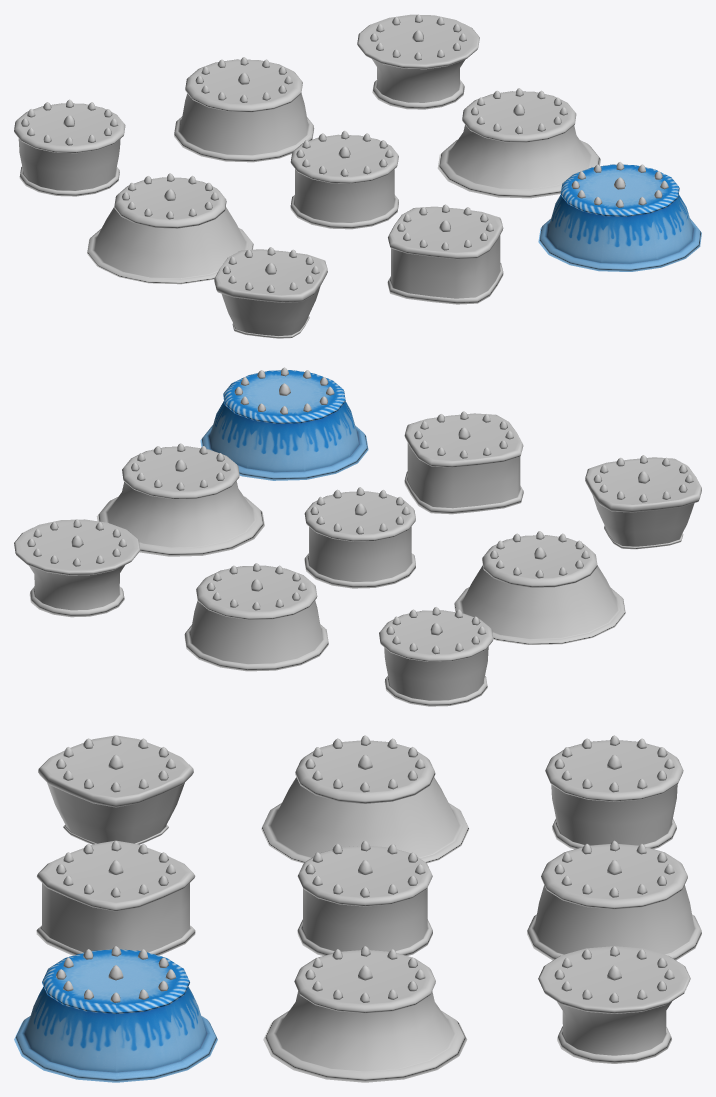
File: CakeCollection_Intial_11-23.fbx
3 renders of one model, top to bottom at view 1: azimuth 30°, elevation 25°; view 2: azimuth 150°, elevation 25°; view 3: azimuth 270°, elevation 25°, orthographic. The views are drawn at different scales.
Parts seen in each view (by area): view 1: group31_pSphere14, group26_pSphere14, pCylinder17, group28_pSphere14, group32_pSphere7, pCylinder18, group27_pSphere2, group29_pSphere4, group33; view 2: group31_pSphere14, group26_pSphere14, pCylinder17, group28_pSphere14, group32_pSphere7, pCylinder18, group29_pSphere4, group27_pSphere2, group33; view 3: group31_pSphere14, pCylinder17, group26_pSphere14, group28_pSphere14, group32_pSphere7, group29_pSphere4, pCylinder18, group27_pSphere2, group33.
Boxes of the visible parts, bbox=[...] form: group31_pSphere14: bbox=[538, 162, 701, 271]; group26_pSphere14: bbox=[87, 173, 253, 284]; pCylinder17: bbox=[437, 88, 600, 198]; group28_pSphere14: bbox=[174, 57, 314, 162]; group32_pSphere7: bbox=[387, 204, 503, 304]; pCylinder18: bbox=[290, 130, 398, 229]; group27_pSphere2: bbox=[14, 99, 125, 196]; group29_pSphere4: bbox=[357, 14, 479, 109]; group33: bbox=[214, 247, 327, 338]; group31_pSphere14: bbox=[200, 367, 368, 480]; group26_pSphere14: bbox=[454, 531, 625, 644]; pCylinder17: bbox=[96, 443, 264, 556]; group28_pSphere14: bbox=[184, 563, 328, 671]; group32_pSphere7: bbox=[404, 411, 523, 514]; pCylinder18: bbox=[304, 487, 415, 588]; group29_pSphere4: bbox=[14, 519, 140, 617]; group27_pSphere2: bbox=[379, 607, 493, 706]; group33: bbox=[585, 455, 701, 549]; group31_pSphere14: bbox=[14, 946, 217, 1082]; pCylinder17: bbox=[263, 946, 467, 1082]; group26_pSphere14: bbox=[261, 735, 468, 863]; group28_pSphere14: bbox=[527, 840, 701, 960]; group32_pSphere7: bbox=[36, 840, 195, 955]; group29_pSphere4: bbox=[538, 946, 690, 1063]; pCylinder18: bbox=[297, 840, 432, 955]; group27_pSphere2: bbox=[545, 735, 683, 849]; group33: bbox=[38, 735, 193, 844].
Bounding box in the file's own units: 11.31 × 1.33 × 11.04.
